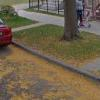Tree: (51, 0, 93, 43)
